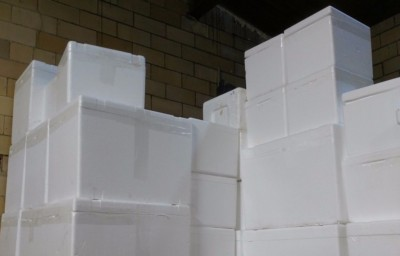Boxes: (0, 10, 400, 255)
